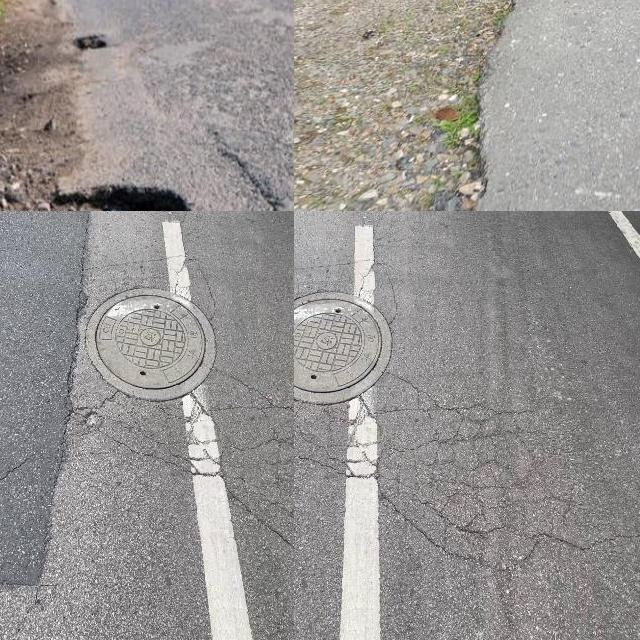Lubang: (95, 293, 212, 395), (294, 293, 394, 401)
Pinggir: (438, 0, 548, 211)
Sambungan: (0, 211, 86, 581)
